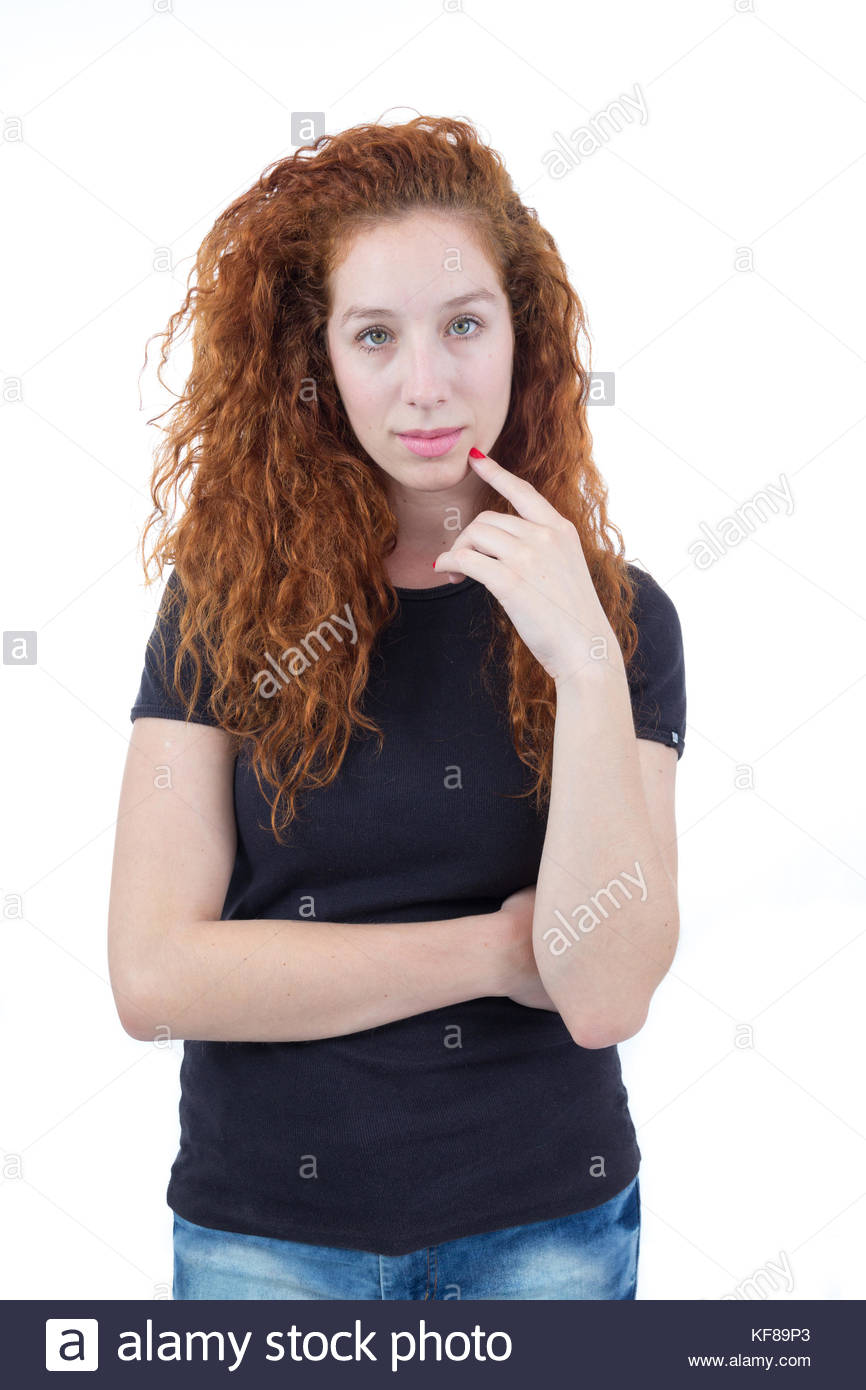person: (174, 62, 658, 877)
